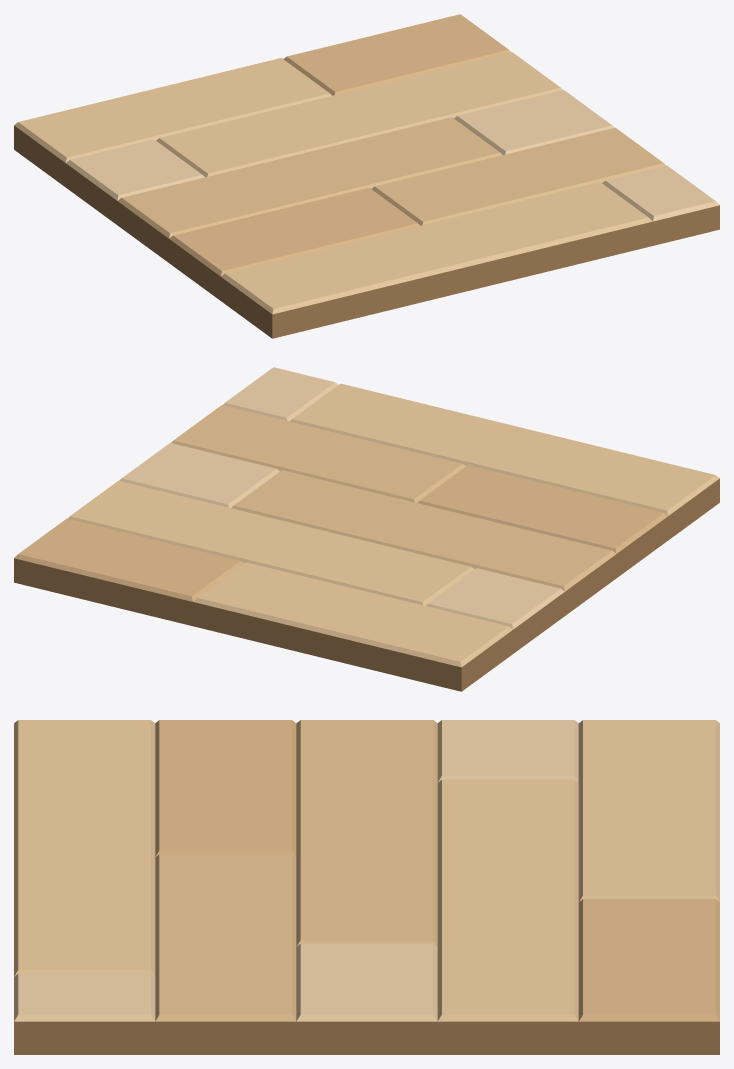
File: boden_holz_a.glb
3 renders of one model, top to bottom at view 1: azimuth 30°, elevation 25°; view 2: azimuth 150°, elevation 25°; view 3: azimuth 270°, elevation 25°, orthographic. The views are drawn at different scales.
Parts seen in each view (by area): view 1: boden_holz_a; view 2: boden_holz_a; view 3: boden_holz_a.
Boxes of the visible parts, x1=… form: boden_holz_a: x1=14, y1=14, x2=719, y2=338; boden_holz_a: x1=14, y1=367, x2=719, y2=691; boden_holz_a: x1=14, y1=720, x2=719, y2=1054.
Size of the model in its own units: 1 by 0.06 by 1.
